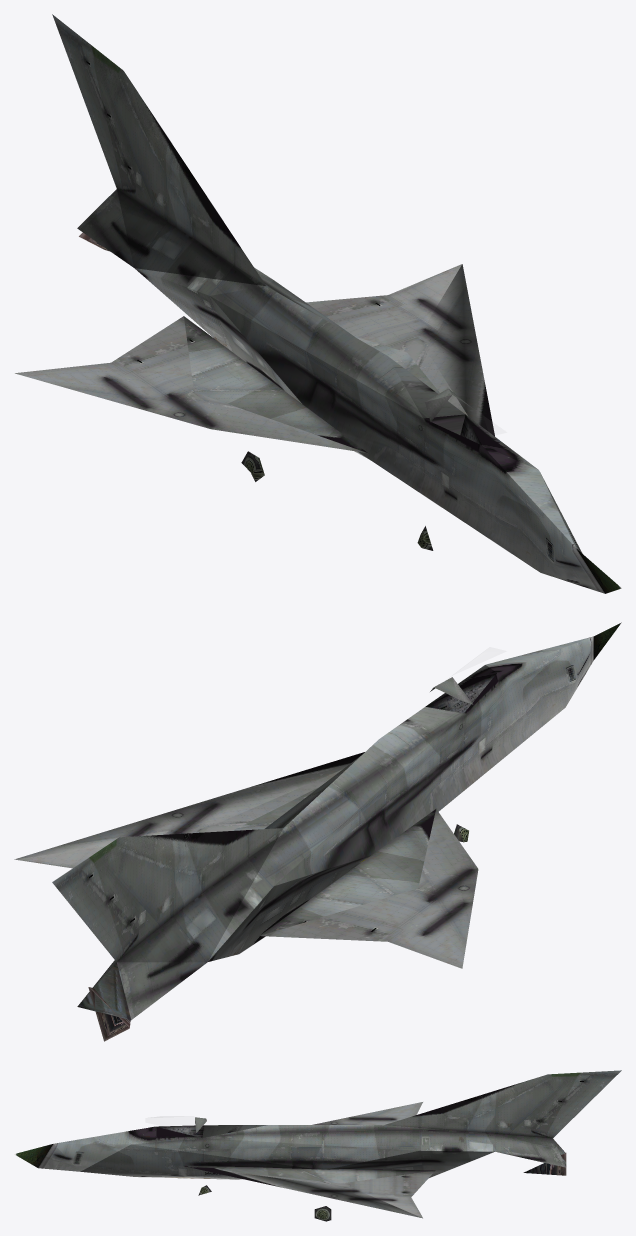
Rendered from Mig21_lod2.FBX.
3 renders of one model, top to bottom at view 1: azimuth 30°, elevation 25°; view 2: azimuth 150°, elevation 25°; view 3: azimuth 270°, elevation 25°, orthographic. The views are drawn at different scales.
Parts seen in each view (by area): view 1: LOD0; view 2: LOD0, EngineL01; view 3: LOD0, EngineL01, studio.a10.mesh_08.
Boxes of the visible parts, <box> form: LOD0: <box>15,14,621,593</box>; LOD0: <box>14,622,621,1020</box>; EngineL01: <box>88,987,130,1041</box>; LOD0: <box>14,1070,621,1218</box>; EngineL01: <box>523,1153,566,1175</box>; studio.a10.mesh_08: <box>198,1185,331,1221</box>.
Size of the model in its own units: 9.89 by 5.21 by 21.77.
3 materials, 2 textured.
